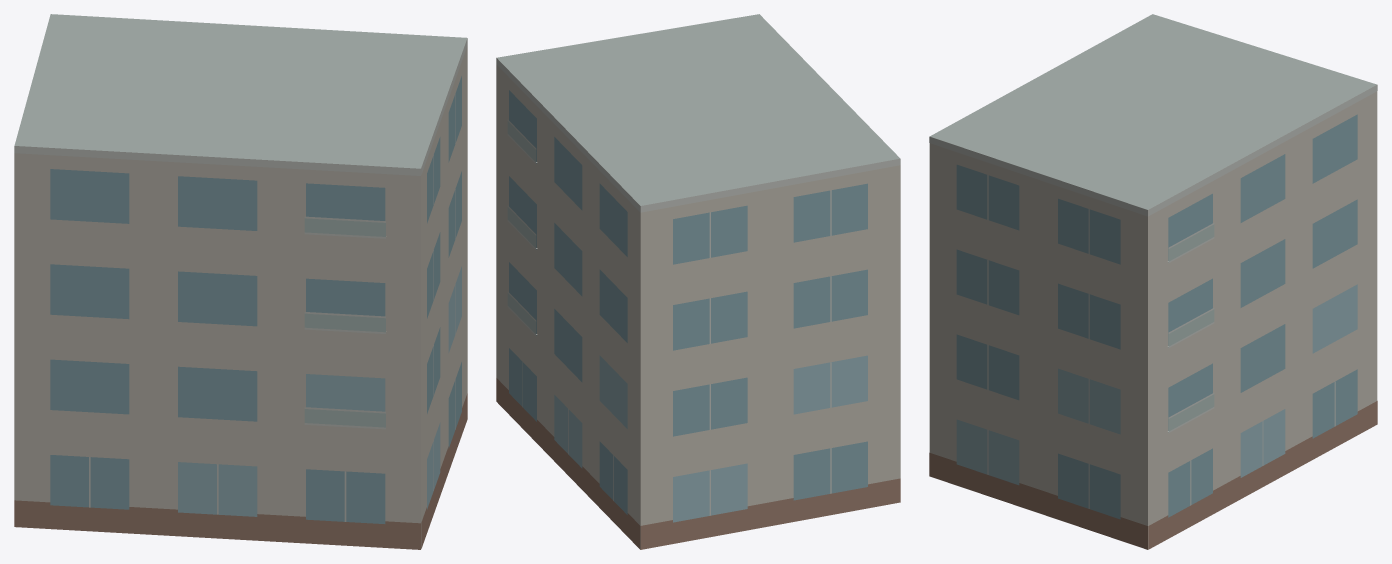
Rendered from survey-upis-32629171.glb.
3 renders of one model, left to right at view 1: azimuth 30°, elevation 25°; view 2: azimuth 150°, elevation 25°; view 3: azimuth 270°, elevation 25°, orthographic. The views are drawn at different scales.
Parts seen in each view (by area): view 1: survey-upis-32629171.tmp; view 2: survey-upis-32629171.tmp; view 3: survey-upis-32629171.tmp.
Boxes of the visible parts, box(x1,y1,x2,y2) form: survey-upis-32629171.tmp: box(14, 14, 467, 549); survey-upis-32629171.tmp: box(496, 14, 900, 549); survey-upis-32629171.tmp: box(929, 14, 1377, 549).
Bounding box in the file's own units: 15.72 × 12.7 × 15.18.
